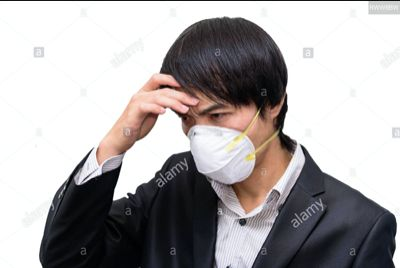with-mask: (156, 19, 306, 184)
